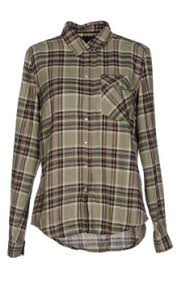squared: (5, 19, 175, 262)
